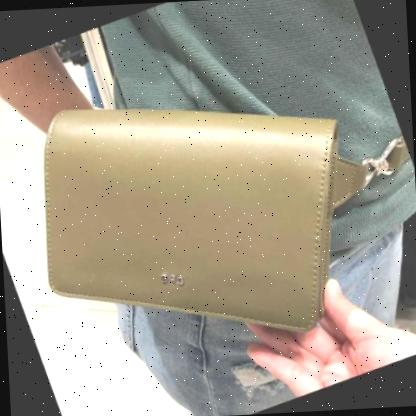bag: (21, 82, 365, 356)
